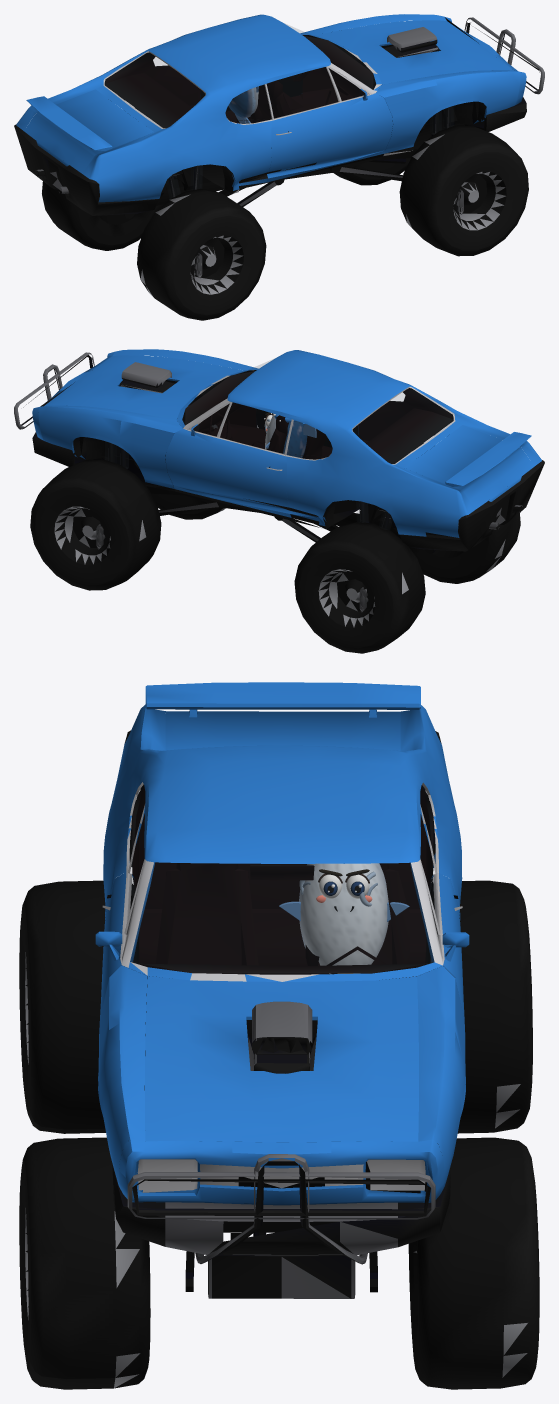
Rendered from racer7.glb.
3 renders of one model, top to bottom at view 1: azimuth 30°, elevation 25°; view 2: azimuth 150°, elevation 25°; view 3: azimuth 270°, elevation 25°, orthographic. The views are drawn at different scales.
Visible parts, largest first — view 1: body, wheel_FR, wheel_RR, wheel_RL, wheel_FL; view 2: body, wheel_FL, wheel_RL, wheel_RR, wheel_FR; view 3: body, wheel_FR, wheel_FL, wheel_RR, wheel_RL.
Boxes of the visible parts, left/top/right/bottom form: body: left=14, top=14, right=544, bottom=218; wheel_FR: left=399, top=124, right=528, bottom=256; wheel_RR: left=137, top=188, right=266, bottom=320; wheel_RL: left=42, top=181, right=163, bottom=250; wheel_FL: left=333, top=145, right=421, bottom=185; body: left=14, top=349, right=544, bottom=553; wheel_FL: left=30, top=459, right=161, bottom=590; wheel_RL: left=294, top=522, right=425, bottom=653; wheel_RR: left=409, top=513, right=520, bottom=583; wheel_FR: left=143, top=482, right=225, bottom=519; body: left=95, top=682, right=469, bottom=1298; wheel_FR: left=19, top=1137, right=150, bottom=1389; wheel_FL: left=408, top=1137, right=539, bottom=1389; wheel_RR: left=19, top=880, right=134, bottom=1133; wheel_RL: left=430, top=880, right=532, bottom=1133.
Size of the model in its own units: 14 by 5.99 by 6.83.
